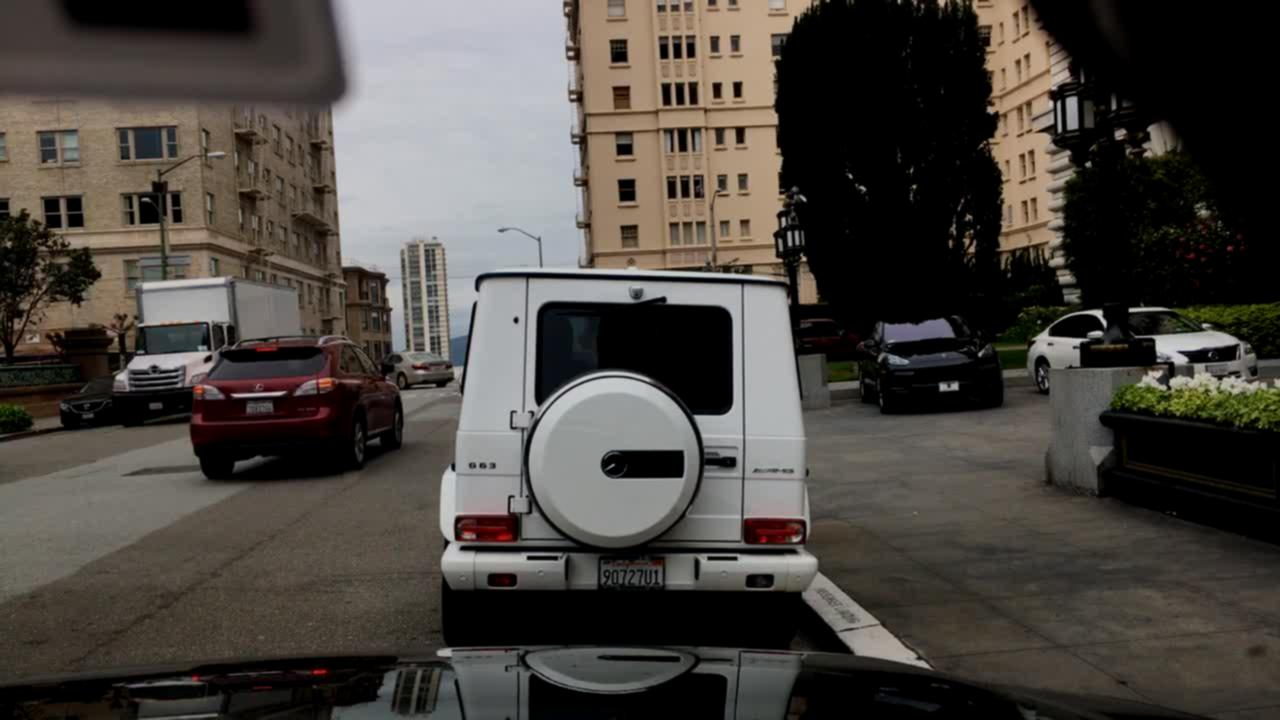Mercedes: (592, 444, 636, 490)
lexus: (250, 380, 270, 395)
